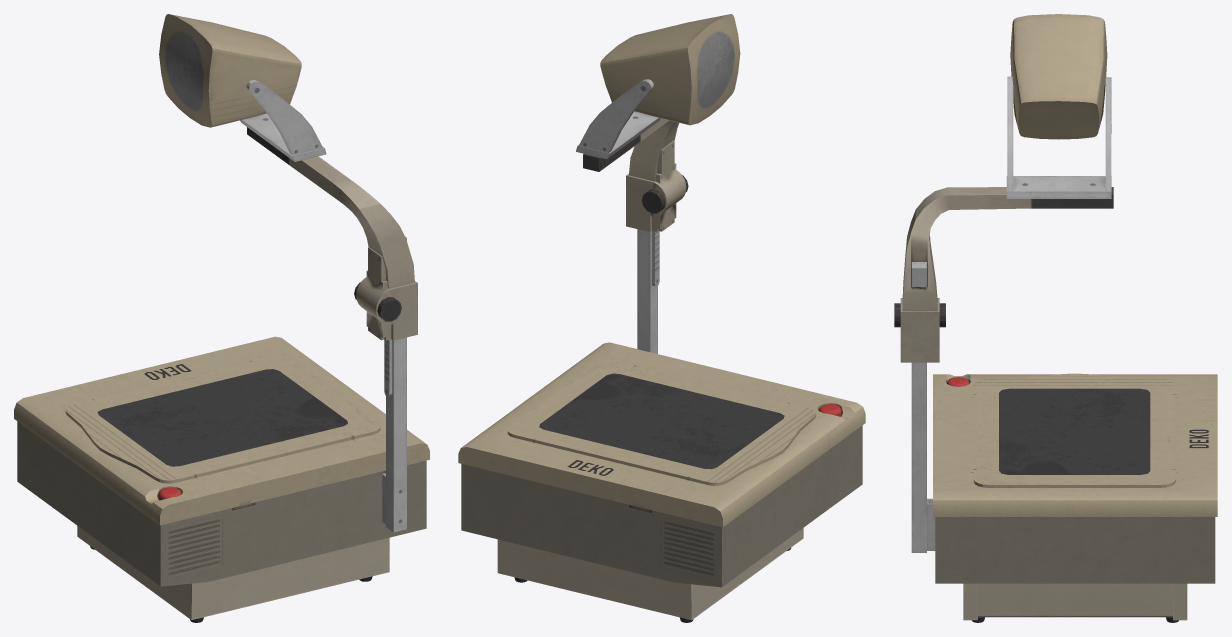
The model's file is SM_Projector_01a.fbx.
The picture shows the model from 3 angles, left to right: view 1: azimuth 30°, elevation 25°; view 2: azimuth 150°, elevation 25°; view 3: azimuth 270°, elevation 25°; orthographic projection. The views are drawn at different scales.
Parts seen in each view (by area): view 1: SM_Projector_01a_LOD0; view 2: SM_Projector_01a_LOD0; view 3: SM_Projector_01a_LOD0.
Part boxes in pixels (x1,y1,x2,y2): SM_Projector_01a_LOD0: (14,14,429,622); SM_Projector_01a_LOD0: (458,14,865,622); SM_Projector_01a_LOD0: (894,14,1217,622).
Size of the model in its own units: 47.98 by 51 by 94.4.
Materials: 1 (1 with a texture image).
